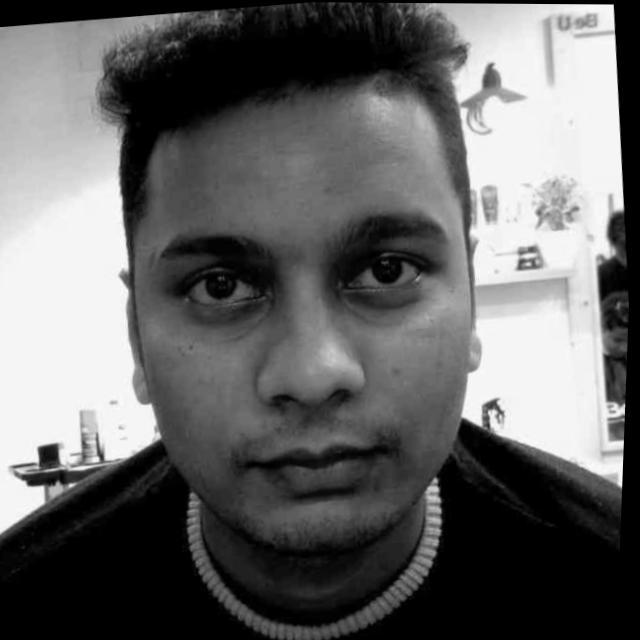Puffy Eyes - v3 Dark Circle: (330, 287, 430, 326), (196, 299, 276, 337), (351, 279, 428, 311), (179, 302, 266, 323)
